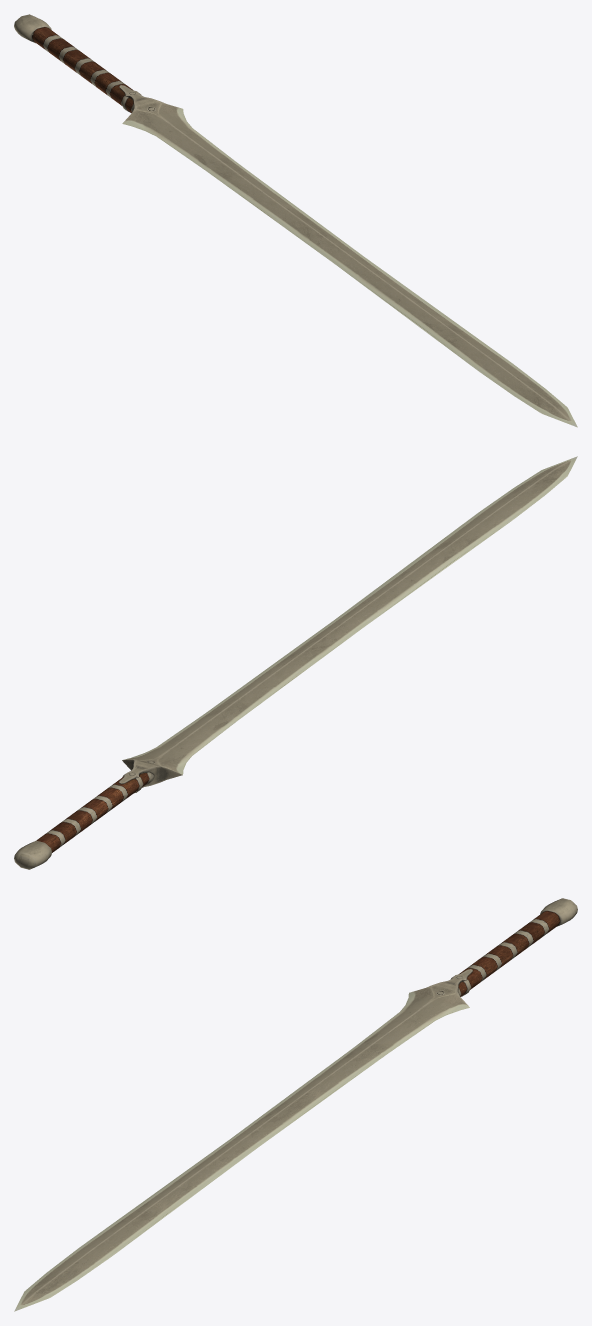
The model's file is Longsword5mobile(Lod3).FBX.
3 renders of one model, top to bottom at view 1: azimuth 30°, elevation 25°; view 2: azimuth 150°, elevation 25°; view 3: azimuth 330°, elevation 25°, orthographic.
Parts seen in each view (by area): view 1: Longsword5mobile(Lod3); view 2: Longsword5mobile(Lod3); view 3: Longsword5mobile(Lod3).
Part boxes in pixels (x1,y1,x2,y2): Longsword5mobile(Lod3): [14, 14, 577, 427]; Longsword5mobile(Lod3): [14, 456, 577, 869]; Longsword5mobile(Lod3): [14, 898, 577, 1311].
Bounding box in the file's own units: 0.0905 × 0.0242 × 1.42.
